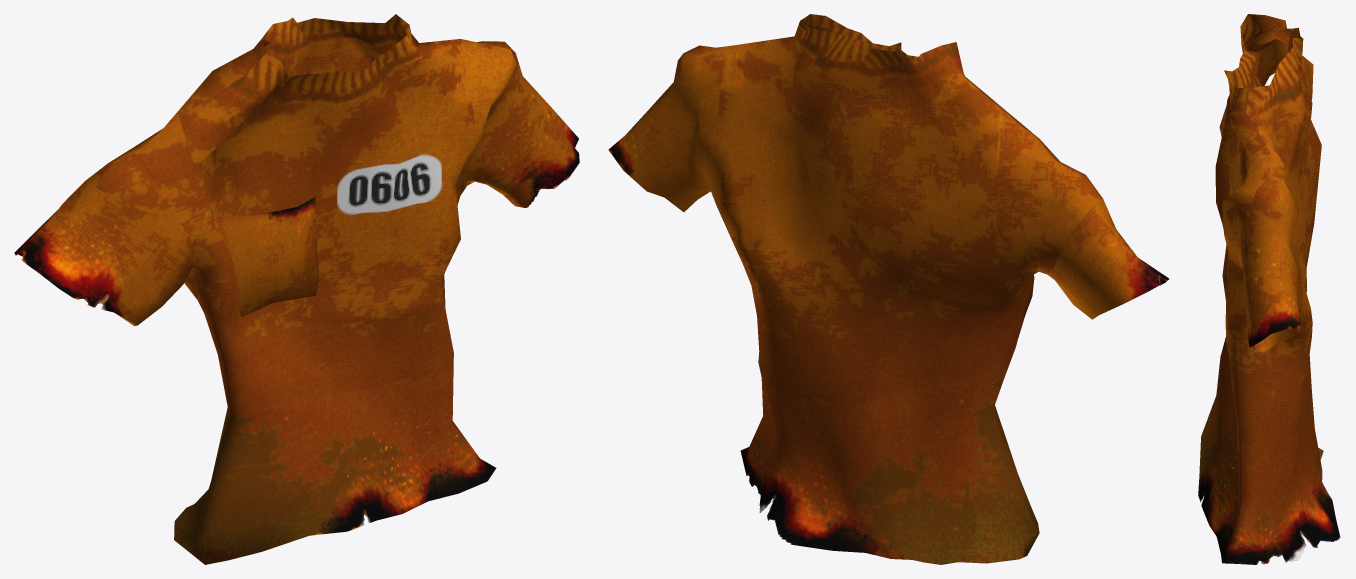
File: CrispyShirt.fbx
3 views of the same model, side by side, from view 1: azimuth 30°, elevation 25°; view 2: azimuth 150°, elevation 25°; view 3: azimuth 270°, elevation 25° (orthographic). The views are drawn at different scales.
Parts seen in each view (by area): view 1: cleanshirt; view 2: cleanshirt; view 3: cleanshirt.
Boxes of the visible parts, x1,y1,x2,y2 form: cleanshirt: (14, 14, 579, 564); cleanshirt: (608, 14, 1169, 564); cleanshirt: (1198, 14, 1340, 564).
Size of the model in its own units: 60.18 by 51.47 by 14.05.
